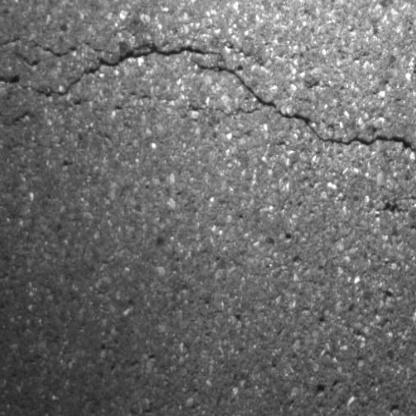Cracks: (0, 34, 416, 164), (407, 164, 416, 180)
